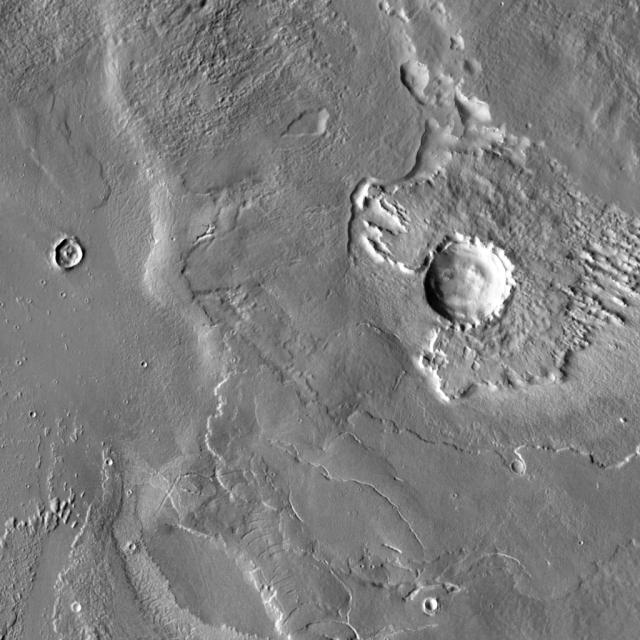crater: (432, 242, 519, 328), (61, 242, 90, 270), (429, 602, 445, 618), (518, 462, 531, 474), (74, 598, 82, 606), (106, 453, 112, 460), (130, 540, 136, 546), (30, 406, 36, 412)
